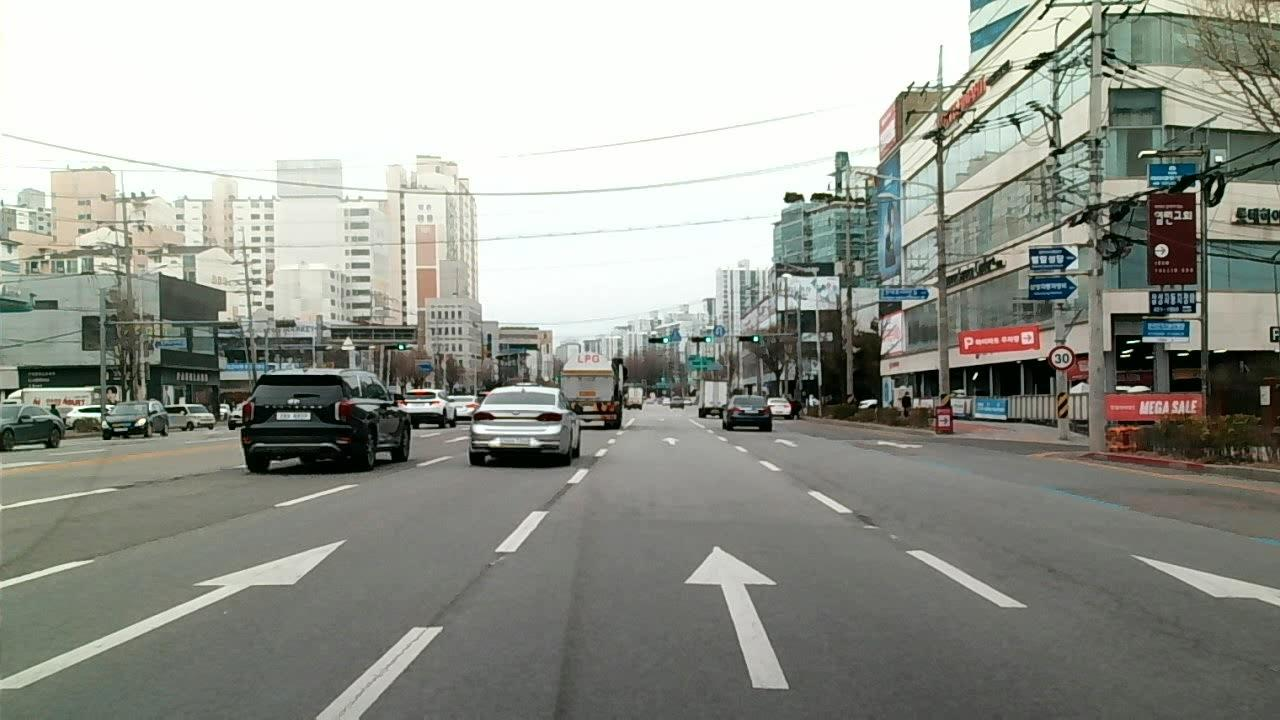vcrack: (431, 552, 503, 624), (1029, 558, 1102, 596), (180, 506, 271, 533), (83, 533, 179, 558), (1173, 516, 1263, 539), (115, 471, 213, 491), (1090, 495, 1163, 521), (542, 483, 572, 510), (850, 509, 872, 528), (583, 456, 600, 470)
